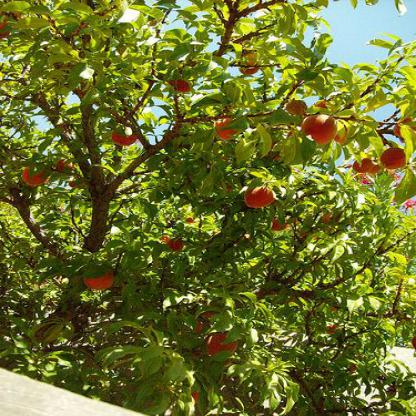peach leaf: (94, 344, 145, 371), (392, 168, 414, 210), (253, 121, 276, 160), (52, 2, 95, 14)
